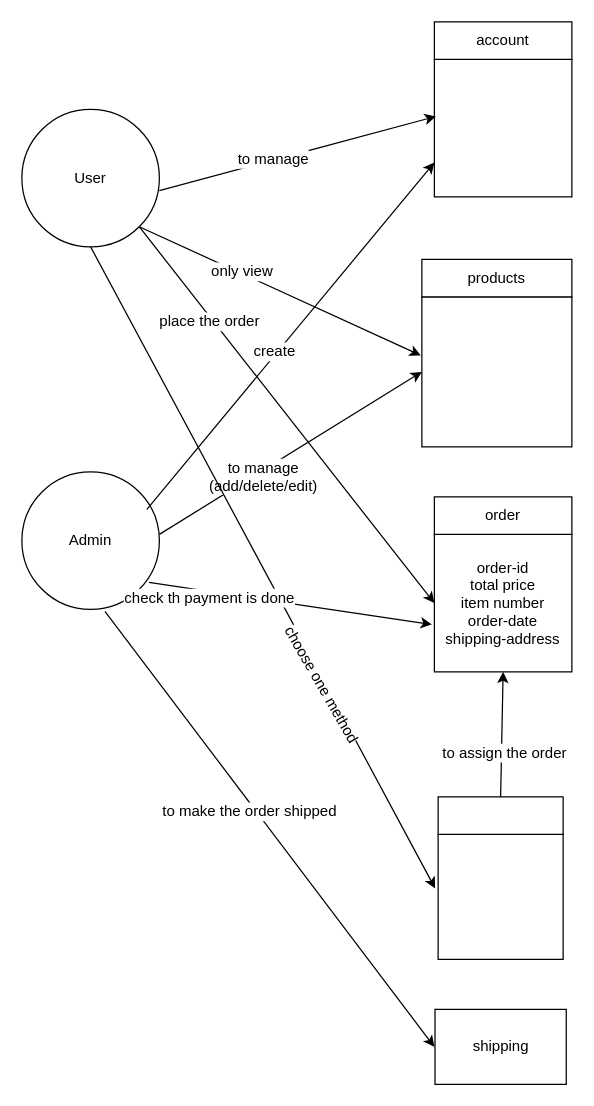
Some shapes in this 594 by 1106 pixel diagram are drawn without their labels. Here are the shapes that lost their labels. From the top down, the box of each, then its label:
(433, 58, 572, 197): name email password confirm-password
(421, 296, 572, 447): name brand category price description count in stock
(437, 796, 563, 834): payment method
(437, 833, 563, 959): paypal cash
